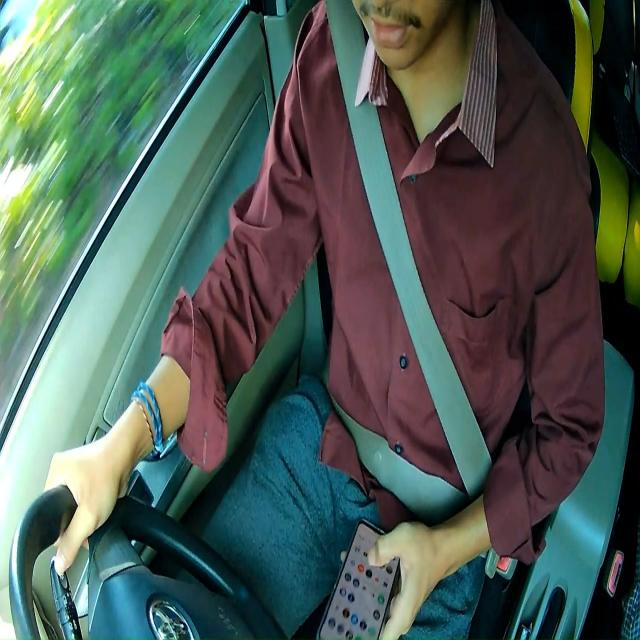phone: (317, 515, 402, 640)
